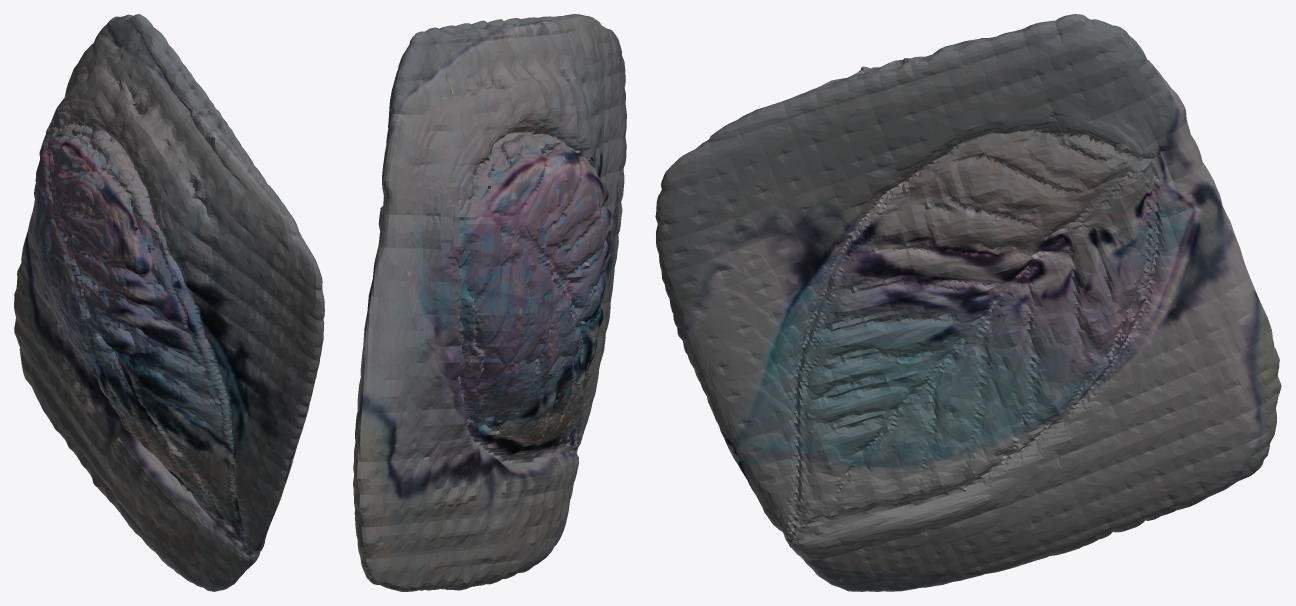
Rendered from glass_leaf.glb.
3 renders of one model, left to right at view 1: azimuth 30°, elevation 25°; view 2: azimuth 150°, elevation 25°; view 3: azimuth 270°, elevation 25°, orthographic. The views are drawn at different scales.
Parts seen in each view (by area): view 1: world; view 2: world; view 3: world.
Boxes of the visible parts, left/top/right/bottom form: world: left=14, top=14, right=324, bottom=591; world: left=353, top=14, right=626, bottom=591; world: left=655, top=14, right=1281, bottom=591.
Size of the model in its own units: 0.1932 by 0.8 by 0.7685.
1 material, 1 textured.
